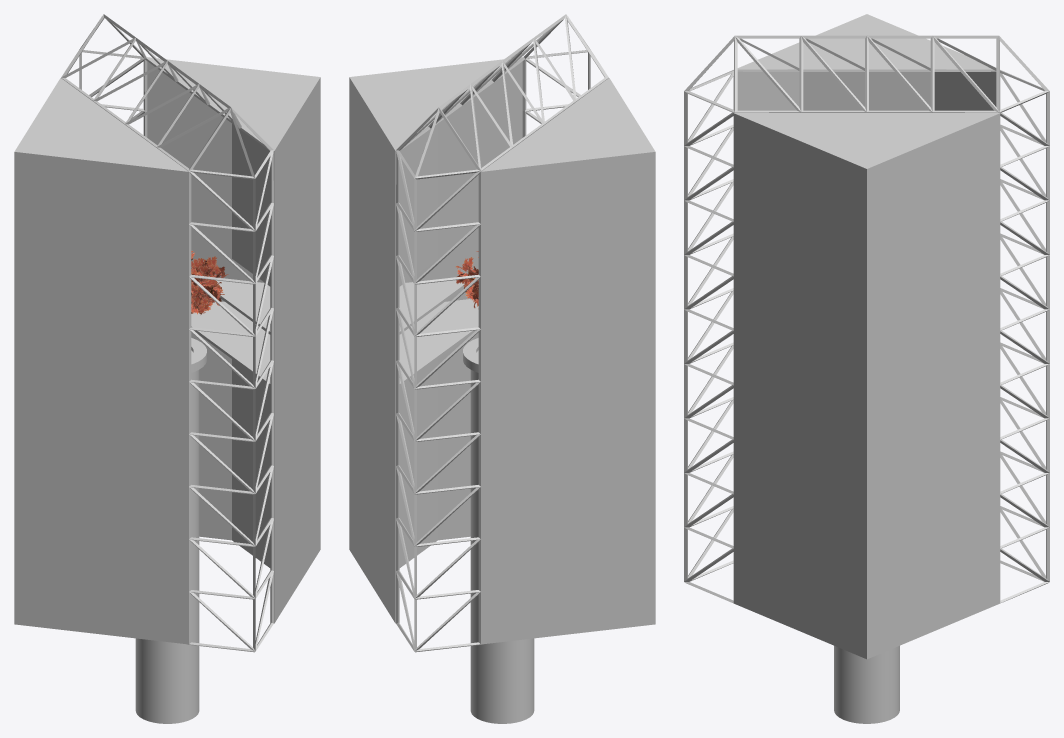
File: test level2.fbx
3 views of the same model, side by side, from view 1: azimuth 30°, elevation 25°; view 2: azimuth 150°, elevation 25°; view 3: azimuth 270°, elevation 25° (orthographic). The views are drawn at different scales.
Visible parts, largest first — view 1: Cube.028, Cube.027, Cube.029, Cylinder, Cube.030, Cube.031, Tree_mesh; view 2: Cube.028, Cube.027, Cube.029, Cylinder, Cube.030, Cube.031, Tree_mesh; view 3: Cube.028, Cube.027, Cylinder, Cube.029.
Part boxes in pixels (x1=…): Cube.028: x1=14, y1=57, x2=320, y2=644; Cube.027: x1=61, y1=14, x2=273, y2=652; Cube.029: x1=232, y1=123, x2=270, y2=567; Cylinder: x1=135, y1=338, x2=206, y2=723; Cube.030: x1=191, y1=301, x2=270, y2=386; Cube.031: x1=216, y1=277, x2=270, y2=334; Tree_mesh: x1=191, y1=250, x2=229, y2=314; Cube.028: x1=349, y1=57, x2=655, y2=644; Cube.027: x1=396, y1=14, x2=608, y2=652; Cube.029: x1=399, y1=123, x2=437, y2=567; Cylinder: x1=463, y1=338, x2=534, y2=723; Cube.030: x1=399, y1=299, x2=478, y2=386; Cube.031: x1=399, y1=277, x2=464, y2=334; Tree_mesh: x1=455, y1=251, x2=478, y2=308; Cube.028: x1=733, y1=14, x2=1000, y2=659; Cube.027: x1=684, y1=35, x2=1049, y2=603; Cylinder: x1=834, y1=645, x2=899, y2=723; Cube.029: x1=803, y1=72, x2=930, y2=110.
Size of the model in its own units: 17715 by 35925 by 17668.
